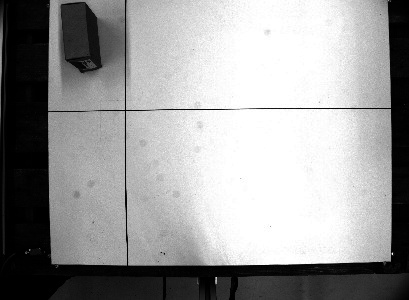b6: (57, 1, 103, 75)
